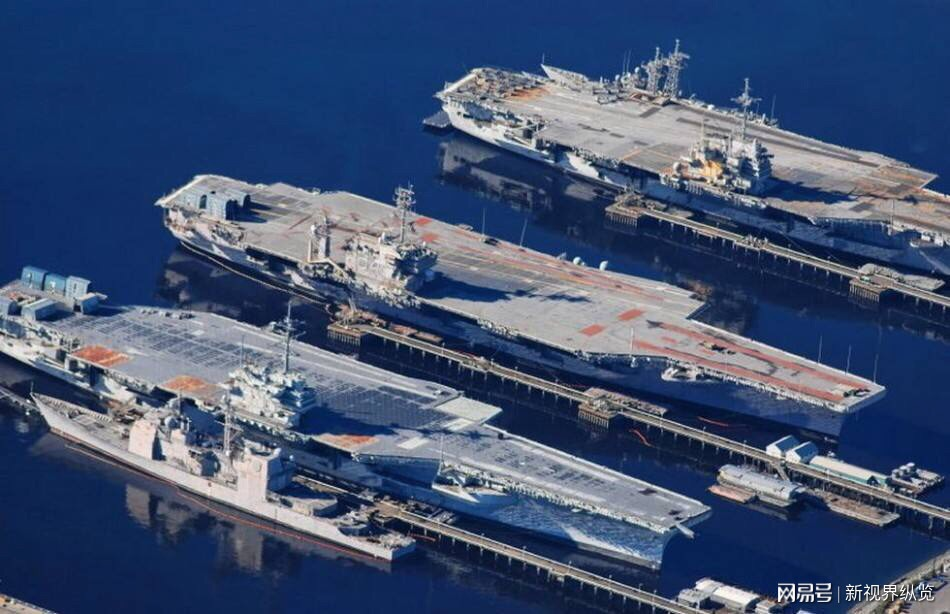warship: (1, 261, 779, 614), (147, 148, 889, 438), (407, 24, 950, 311)
